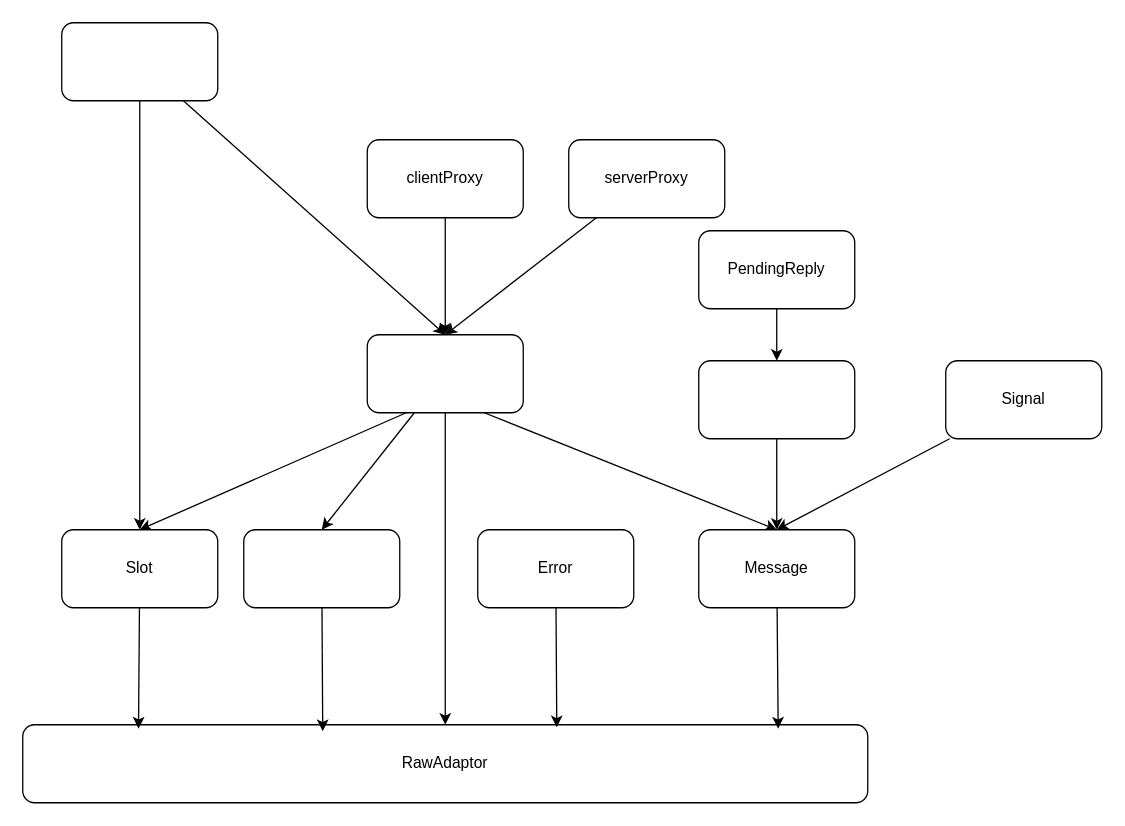
Some shapes in this 1125 by 826 pixel diagram are drawn without their labels. Each missing label, with the centre of its shape:
"Looper" goes at (x=139, y=61).
"Method" goes at (x=321, y=568).
"Reply" goes at (x=776, y=399).
"Session" goes at (x=444, y=373).
